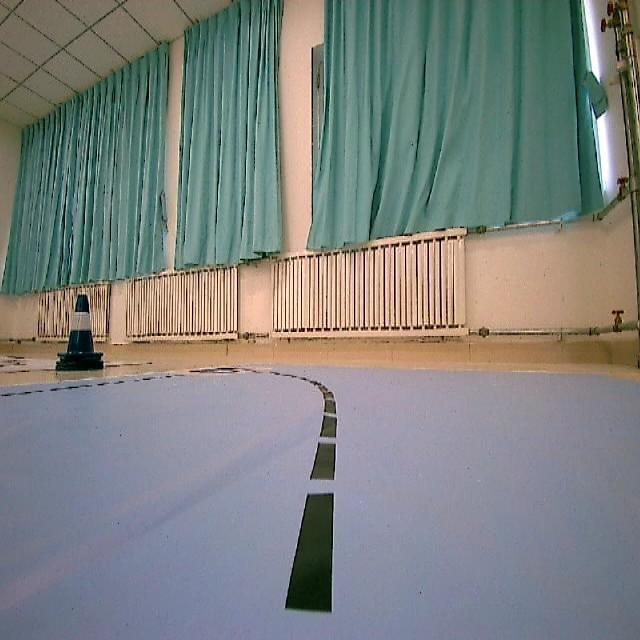obstacle: (50, 291, 105, 380)
